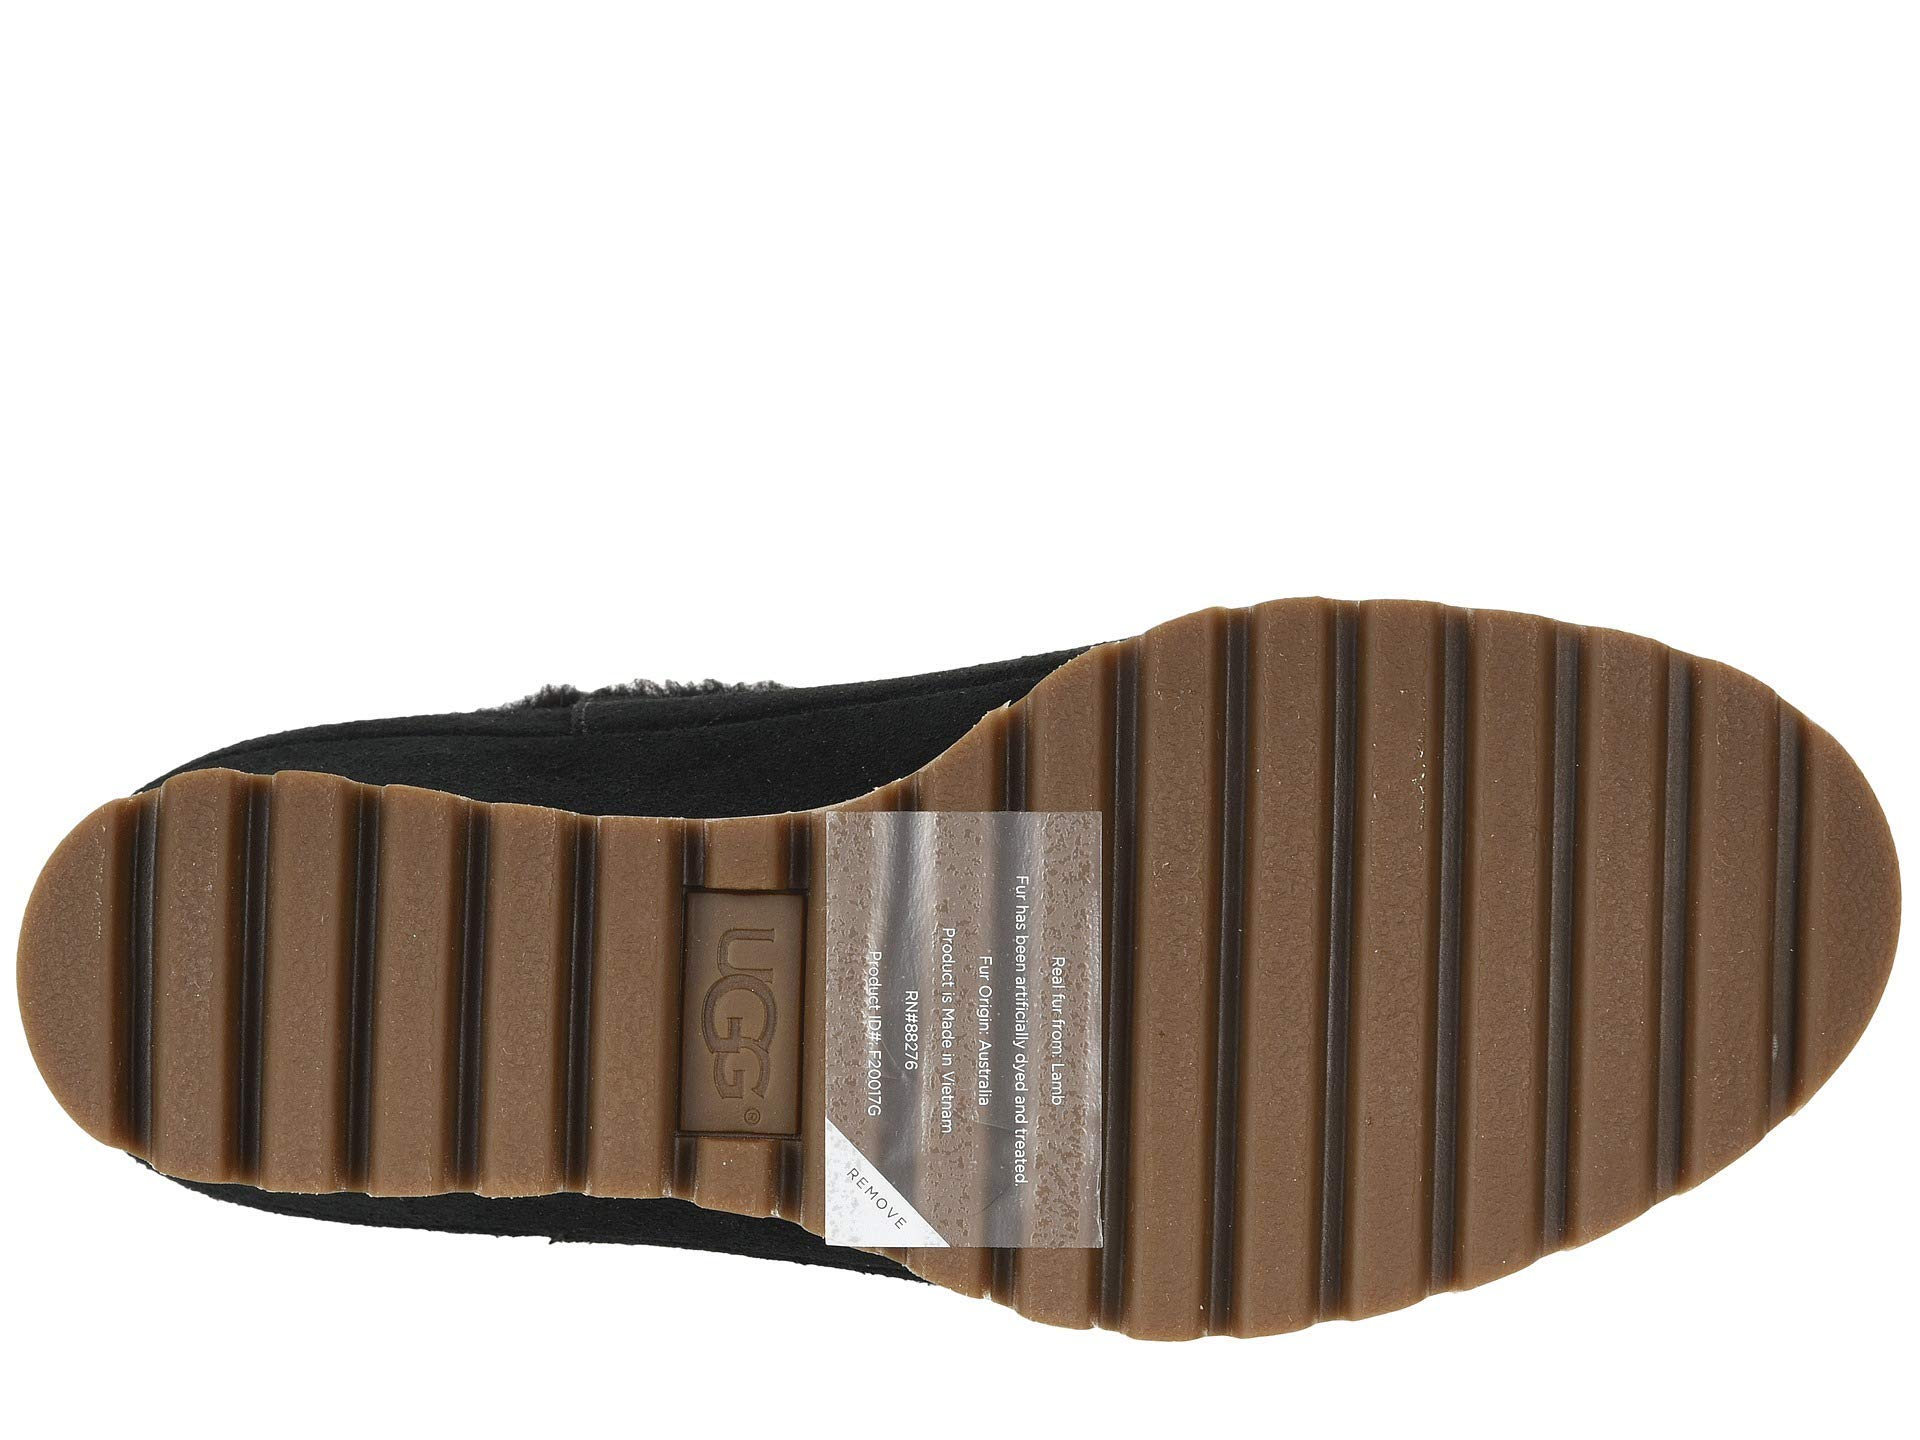line: (1138, 740, 1593, 1192), (82, 841, 422, 1131), (621, 856, 822, 1147)
quad: (621, 856, 822, 1147)
text: (621, 856, 822, 1147)
